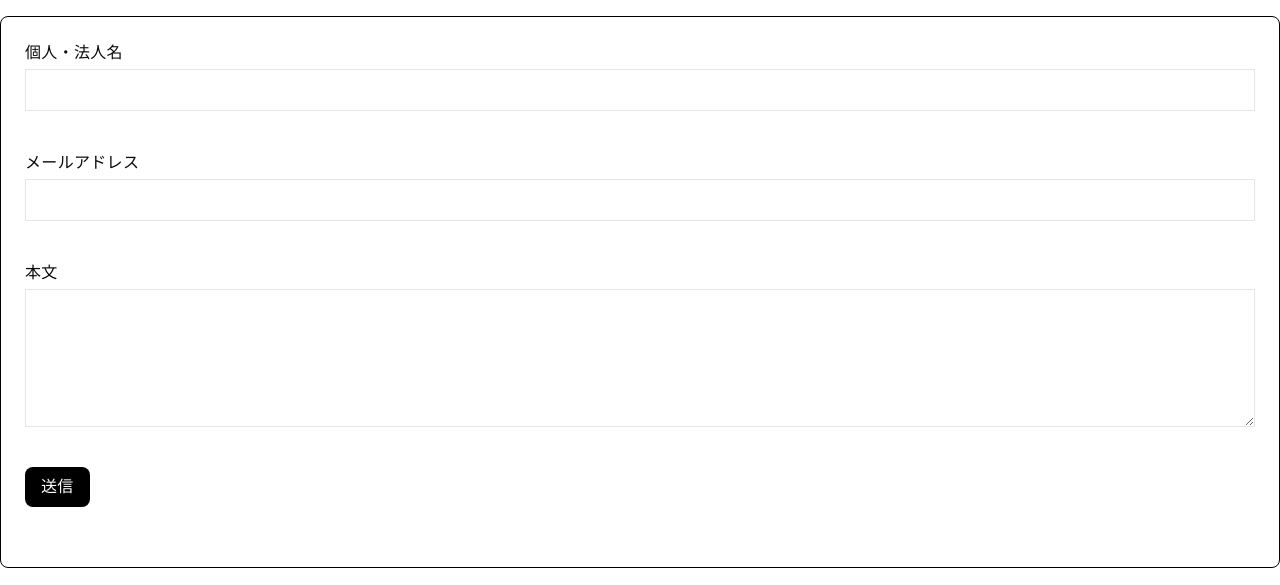
ContactForm › shows an error message and writes a developer log when submission fails
This screenshot has width=1280, height=585.
In the field labelled "個人・法人名": point(640, 90) [25,69,1255,111], type "Taro"
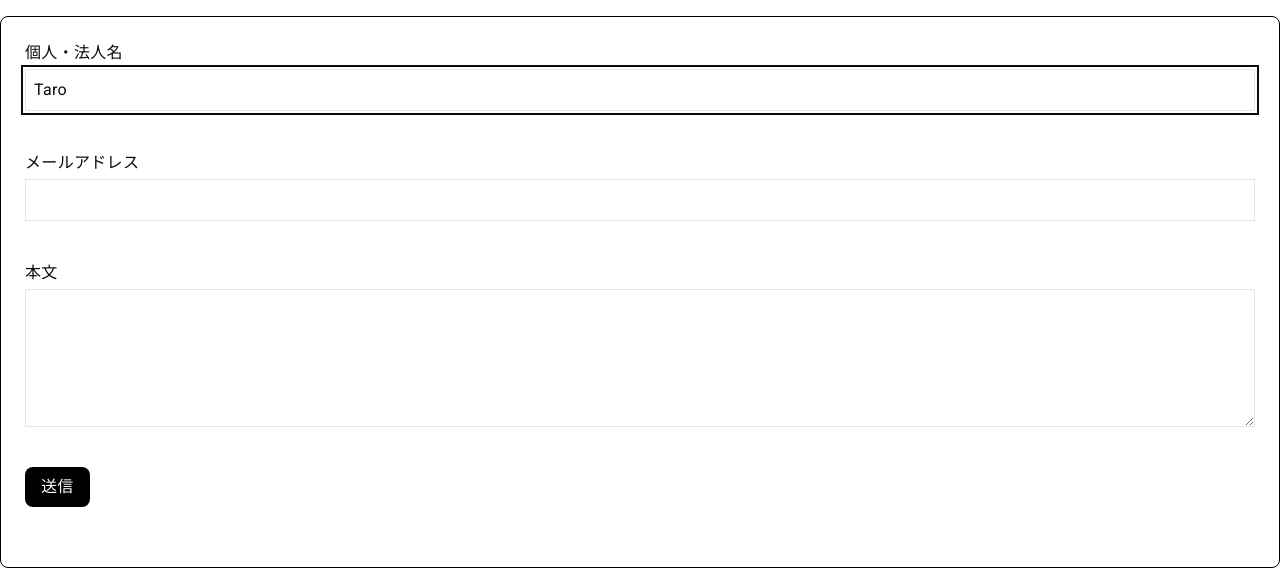
In the field labelled "メールアドレス": point(640, 200) [25,179,1255,221], type "taro@example.com"
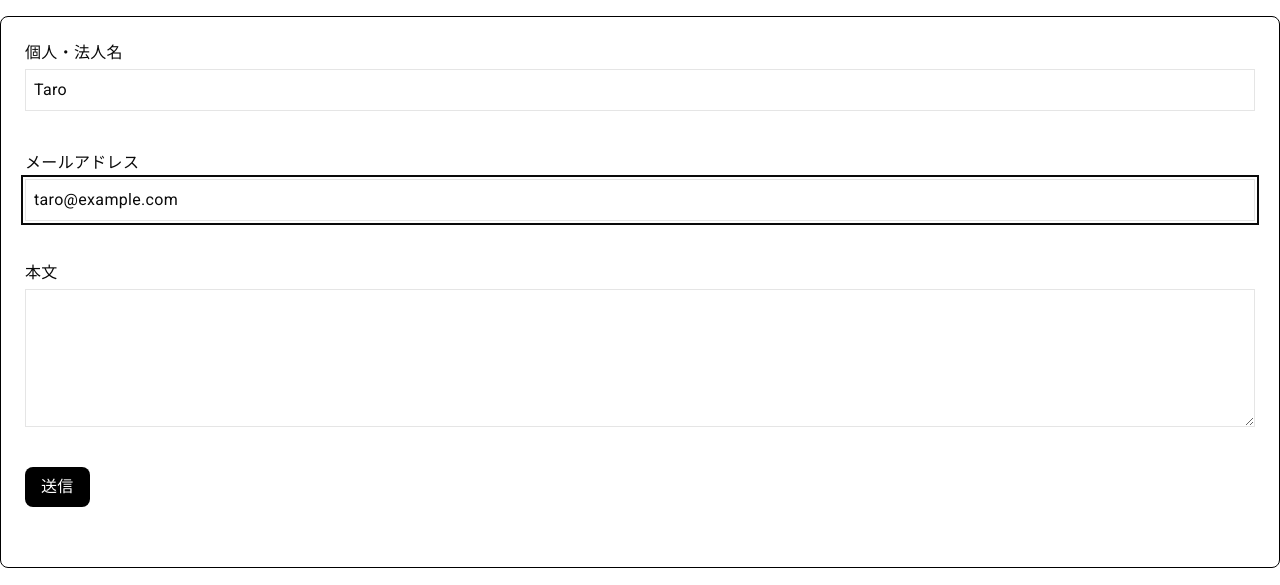
In the text box labelled "本文": point(640, 358) [25,289,1255,427], type "Hello"
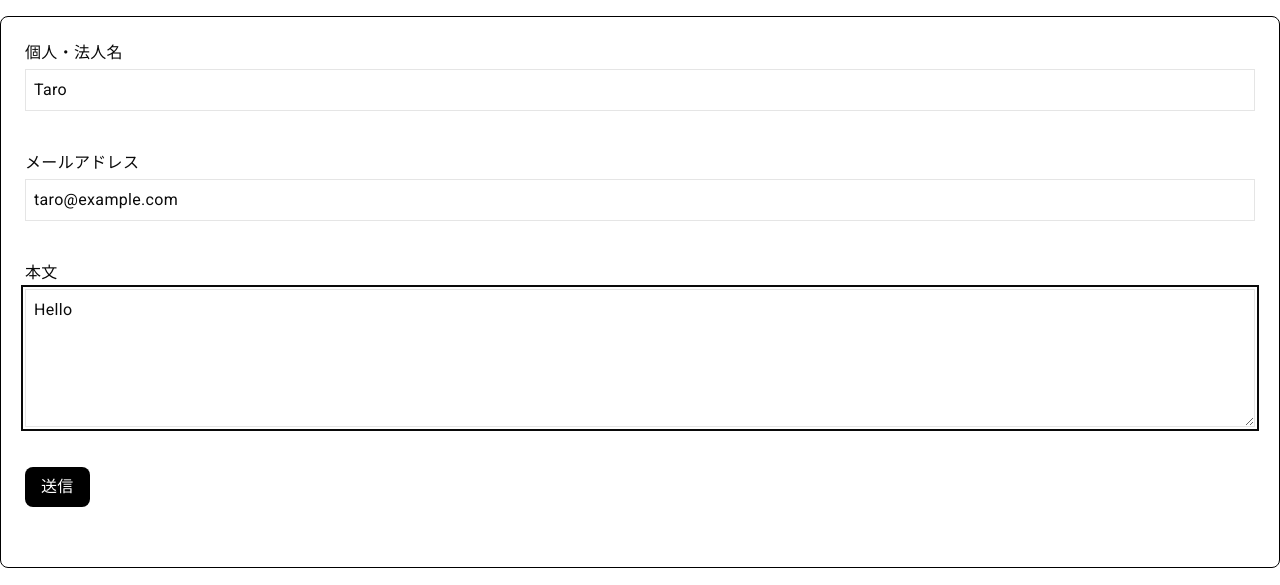
Click the button "送信": point(57, 487) [25,467,90,507]
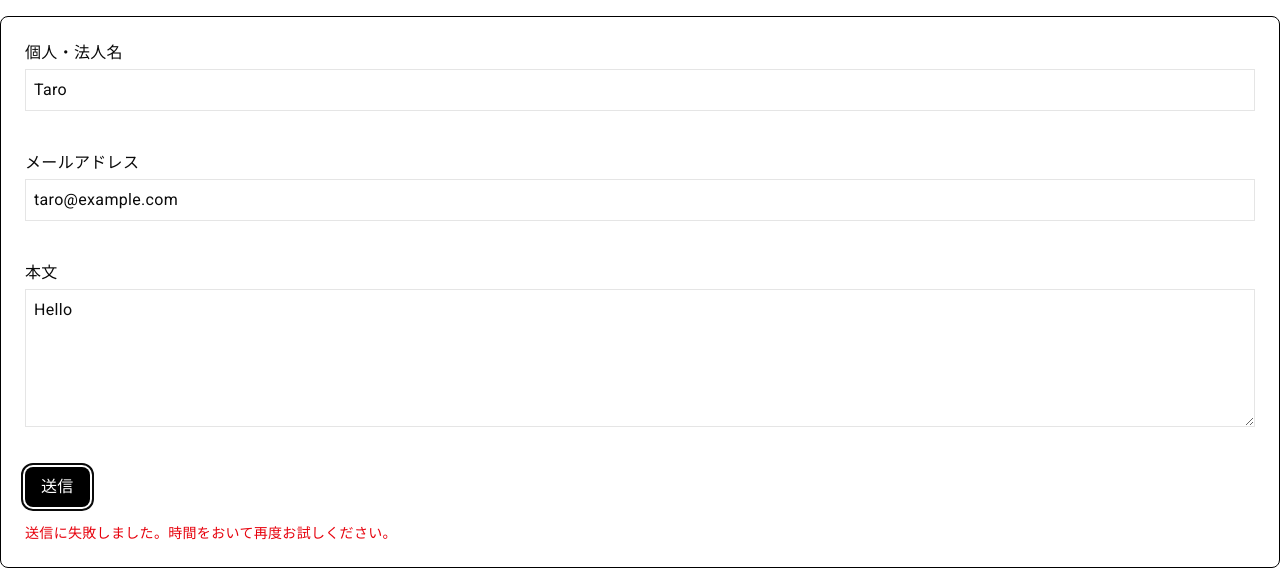
Expected: the text "送信に失敗しました。時間をおいて再度お試しください。" is shown, [25,525,397,541]
